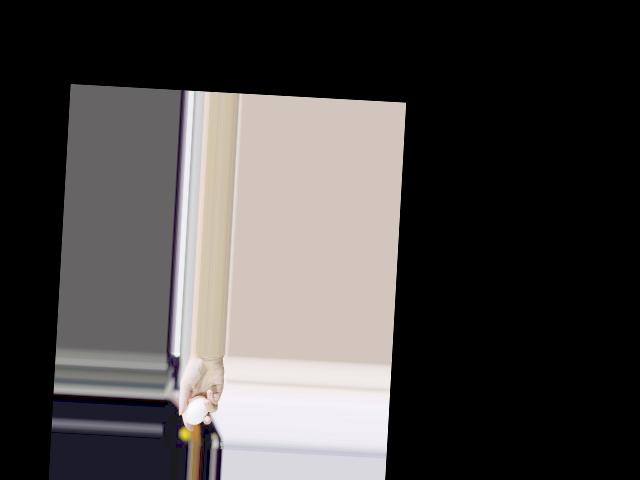egg: (183, 395, 209, 426)
